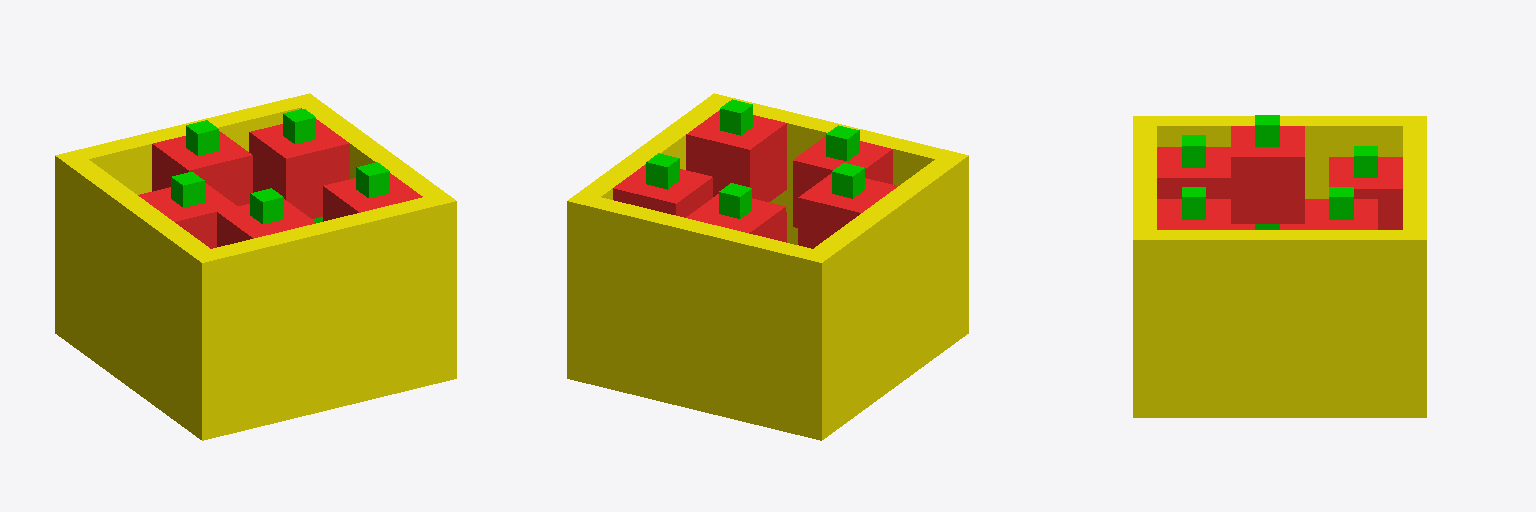
The picture shows the model from 3 angles: view 1: azimuth 30°, elevation 25°; view 2: azimuth 150°, elevation 25°; view 3: azimuth 270°, elevation 25°; orthographic projection.
Visible parts, largest first — view 1: obj_apples; view 2: obj_apples; view 3: obj_apples.
Part boxes in pixels (left/top/right/bottom): obj_apples: left=55, top=93, right=456, bottom=440; obj_apples: left=567, top=93, right=968, bottom=440; obj_apples: left=1133, top=115, right=1426, bottom=417.
Bounding box in the file's own units: 12 × 9 × 12.
Materials: 1 (1 with a texture image).